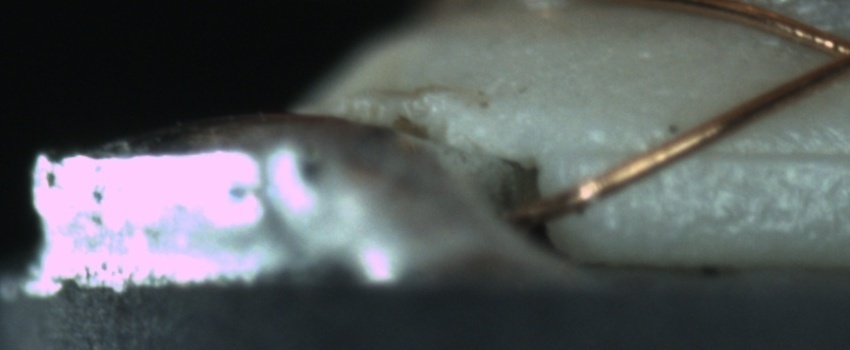CL: (799, 25, 850, 89)
DL: (601, 121, 849, 187)
